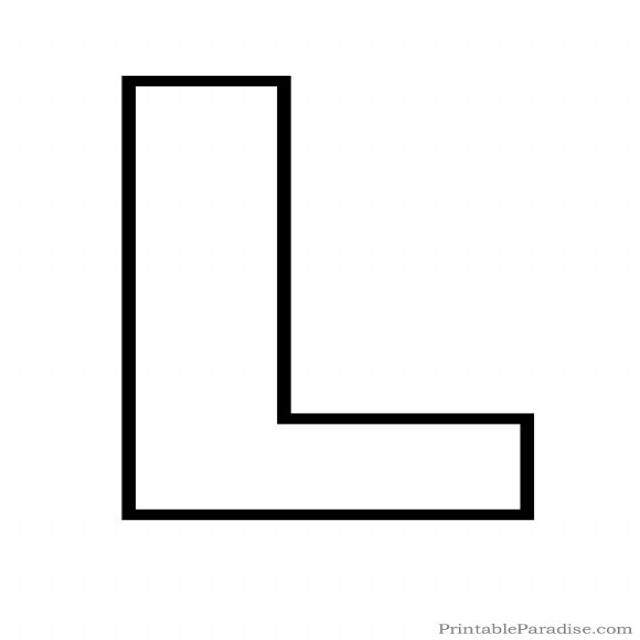L: (85, 55, 553, 549)
